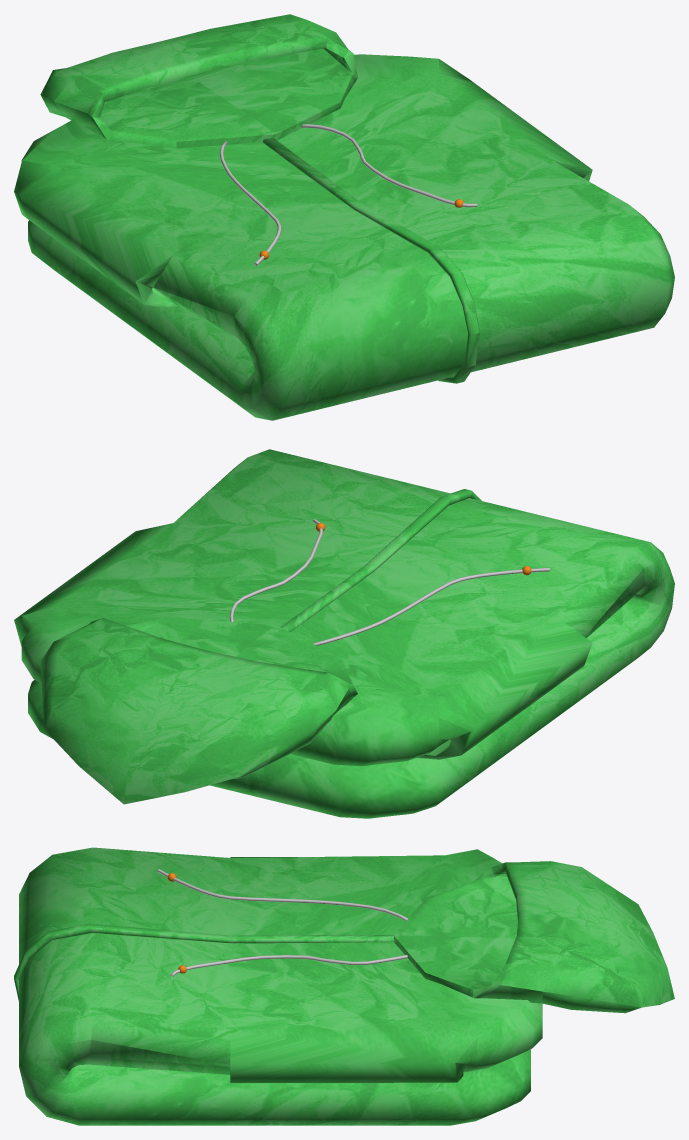
Rendered from APD_lipat.fbx.
The picture shows the model from 3 angles, top to bottom: view 1: azimuth 30°, elevation 25°; view 2: azimuth 150°, elevation 25°; view 3: azimuth 270°, elevation 25°; orthographic projection. The views are drawn at different scales.
Parts seen in each view (by area): view 1: APD_lipat; view 2: APD_lipat; view 3: APD_lipat.
Part boxes in pixels (x1,y1,x2,y2): APD_lipat: (14,14,674,420); APD_lipat: (14,449,674,818); APD_lipat: (14,847,674,1125).
Bounding box in the file's own units: 32.51 × 9.68 × 43.97.
3 materials, 1 textured.
